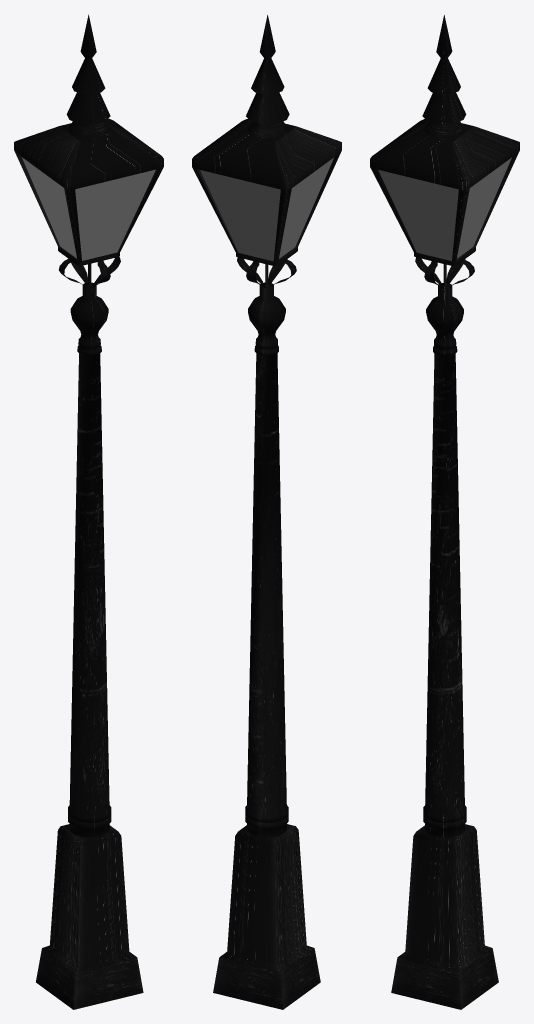
Rendered from streetlight_1.obj.
3 views of the same model, side by side, from view 1: azimuth 30°, elevation 25°; view 2: azimuth 150°, elevation 25°; view 3: azimuth 330°, elevation 25° (orthographic).
Visible parts, largest first — view 1: Box01, Box012; view 2: Box01, Box012; view 3: Box01, Box012.
Boxes of the visible parts, x1,y1,x2,y2 form: Box01: (14, 14, 163, 1009); Box012: (22, 157, 155, 260); Box01: (192, 15, 341, 1009); Box012: (200, 158, 333, 261); Box01: (370, 15, 519, 1009); Box012: (378, 157, 511, 260).
Size of the model in its own units: 29.15 by 277 by 28.96.
Materials: 2 (1 with a texture image).
